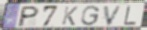7: (42, 5, 60, 28)
G: (80, 5, 101, 27)
K: (61, 6, 80, 26)
L: (123, 5, 137, 26)
P: (16, 6, 41, 28)
V: (102, 5, 123, 26)
